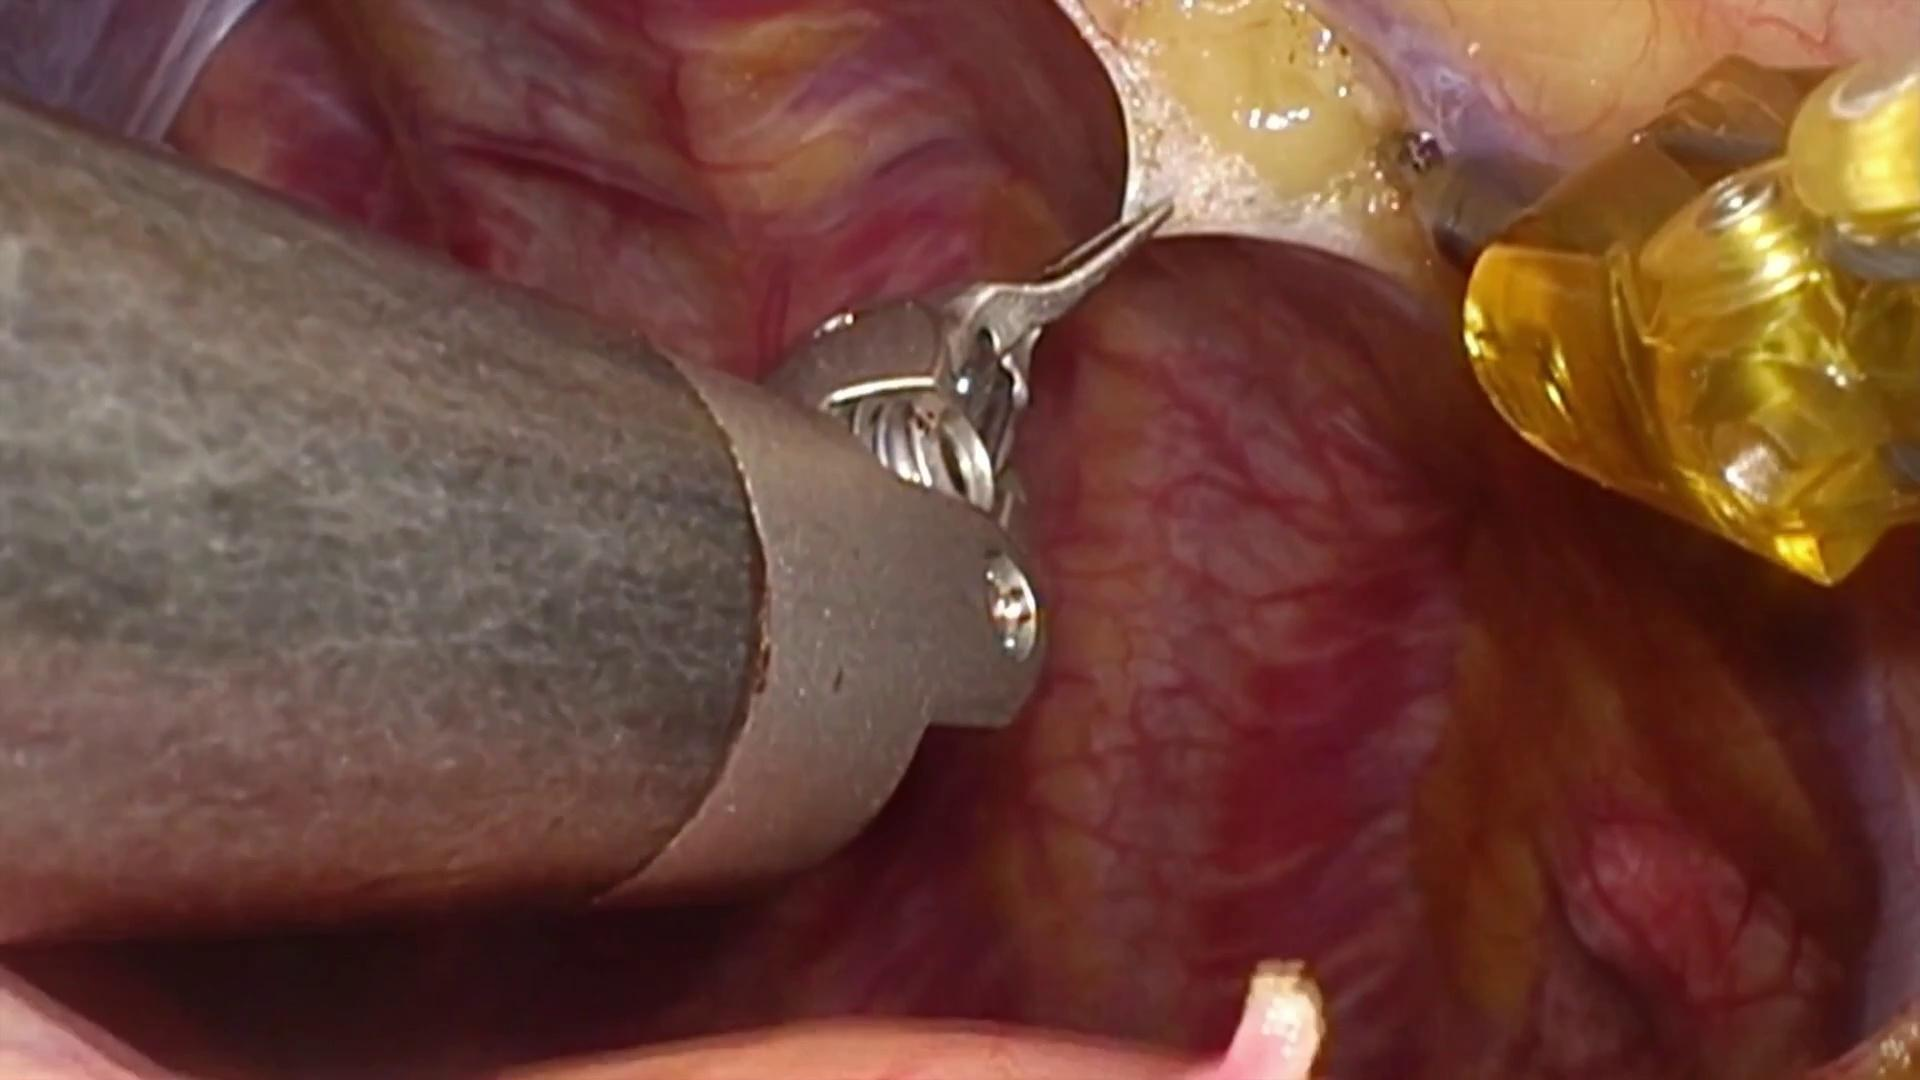Cautery_Spatula: (1366, 108, 1580, 270)
Debakey: (920, 169, 1176, 425)
